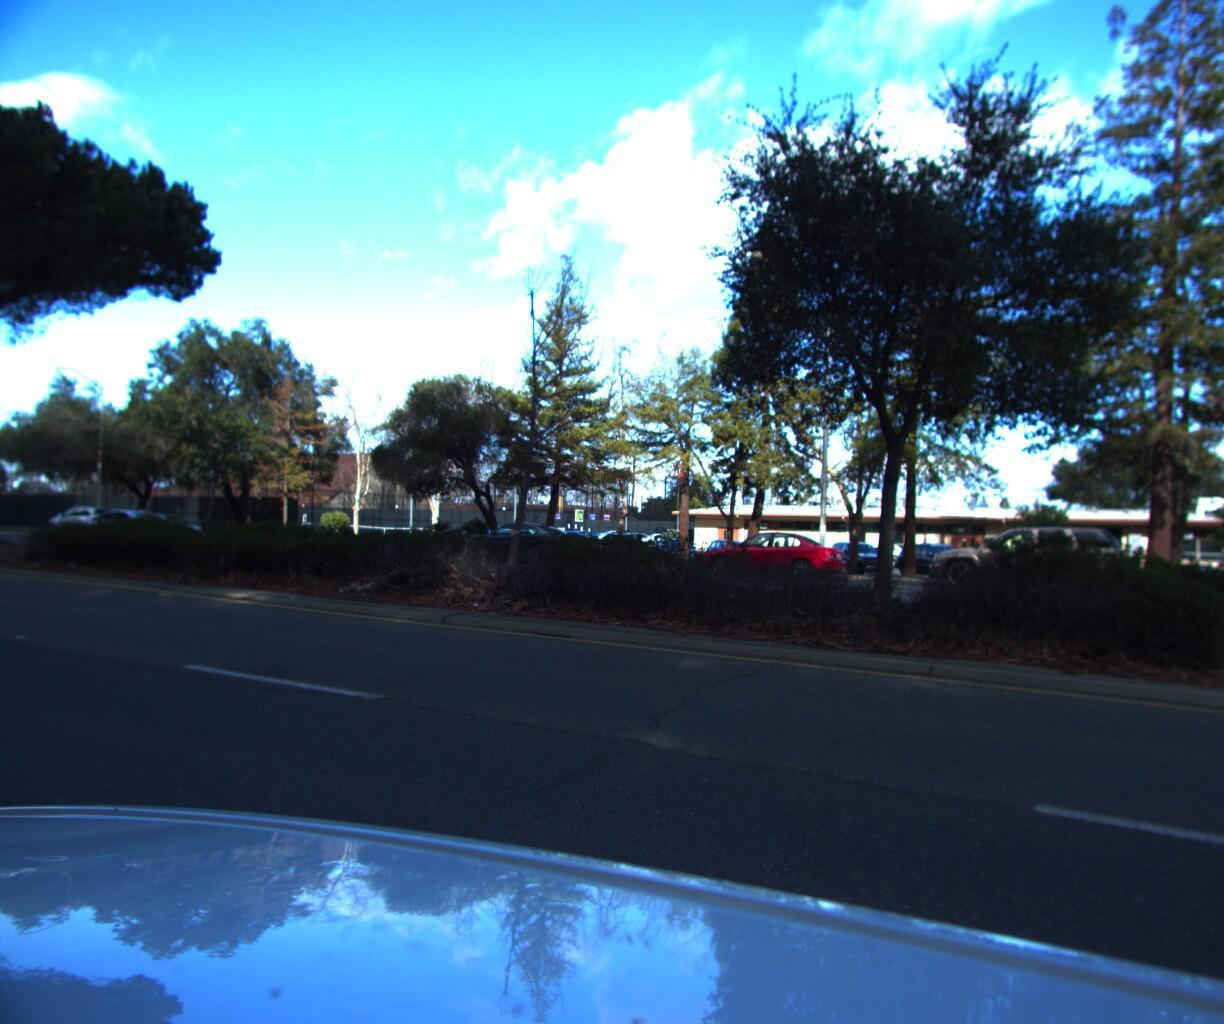car: (914, 518, 1122, 596), (684, 525, 851, 587), (440, 516, 595, 568), (71, 510, 178, 555), (104, 514, 210, 554), (36, 508, 134, 546)
